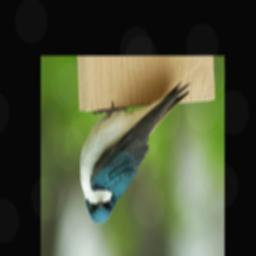Swallow: (78, 80, 192, 224)
